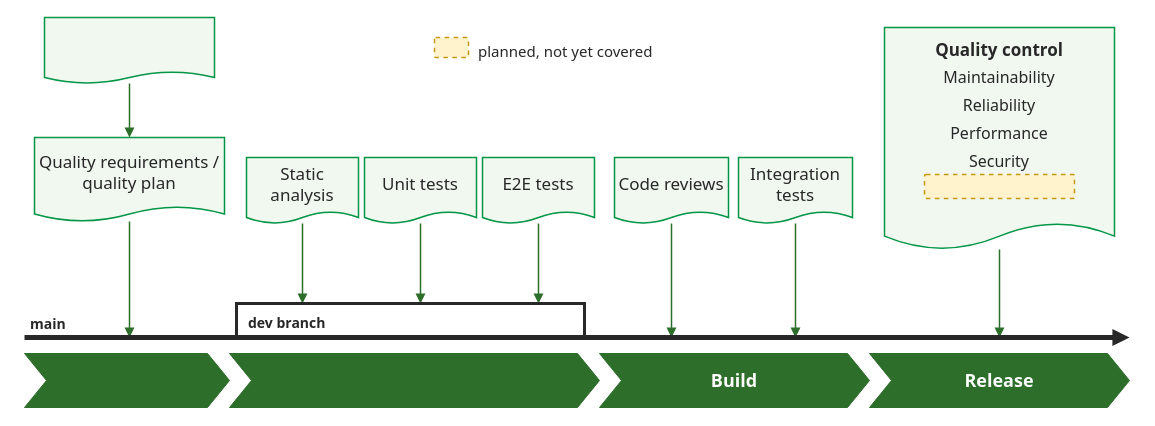
The diagram is 1155 pixels wide and 426 high, and some of its shapes have lost their labels. The centre of each missing label's shape, as x and y in pixels:
Code: the point at 414,380
Plan: the point at 127,380
Quality model: the point at 129,50
Usability: the point at 999,186
